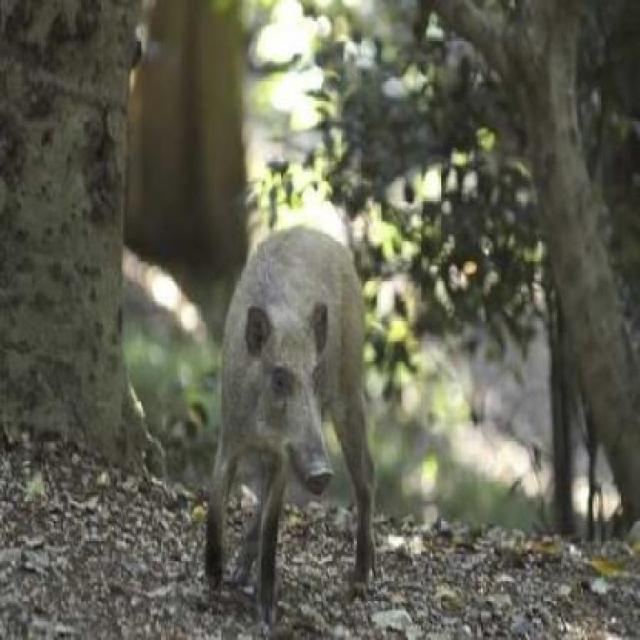Boar: (180, 192, 420, 586)
